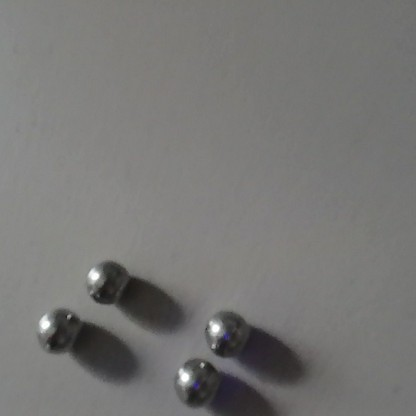ironball: (174, 357, 215, 406), (35, 306, 78, 351), (204, 309, 246, 355), (85, 259, 127, 301)
